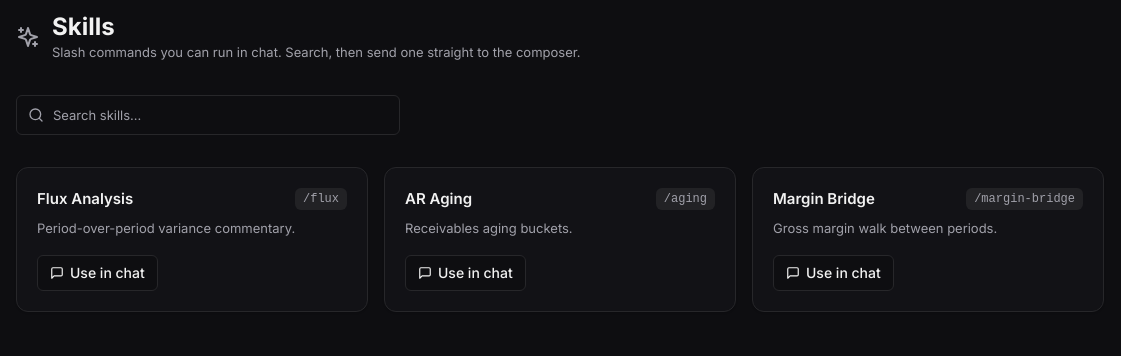
Test case: Skills page › shows an empty state when no skill matches the search
In the field with placeholder "Search skills...": (208, 114) top-left (16, 94), bottom-right (400, 134), type "zzzznotaskill"
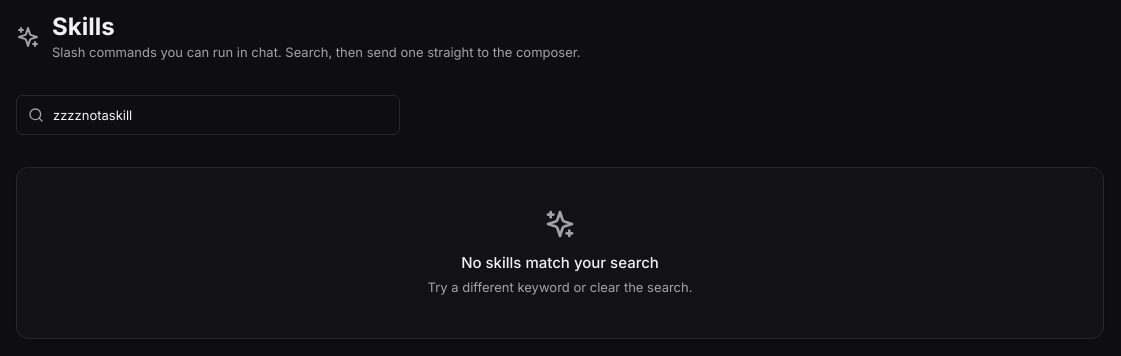
Check: the text "No skills match your search" is shown, box top-left (461, 252), bottom-right (659, 272)
